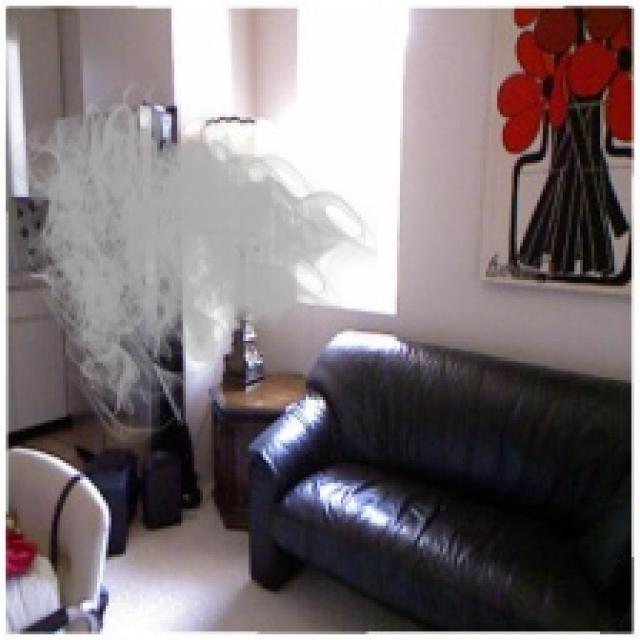Smoke: (0, 69, 377, 448)
